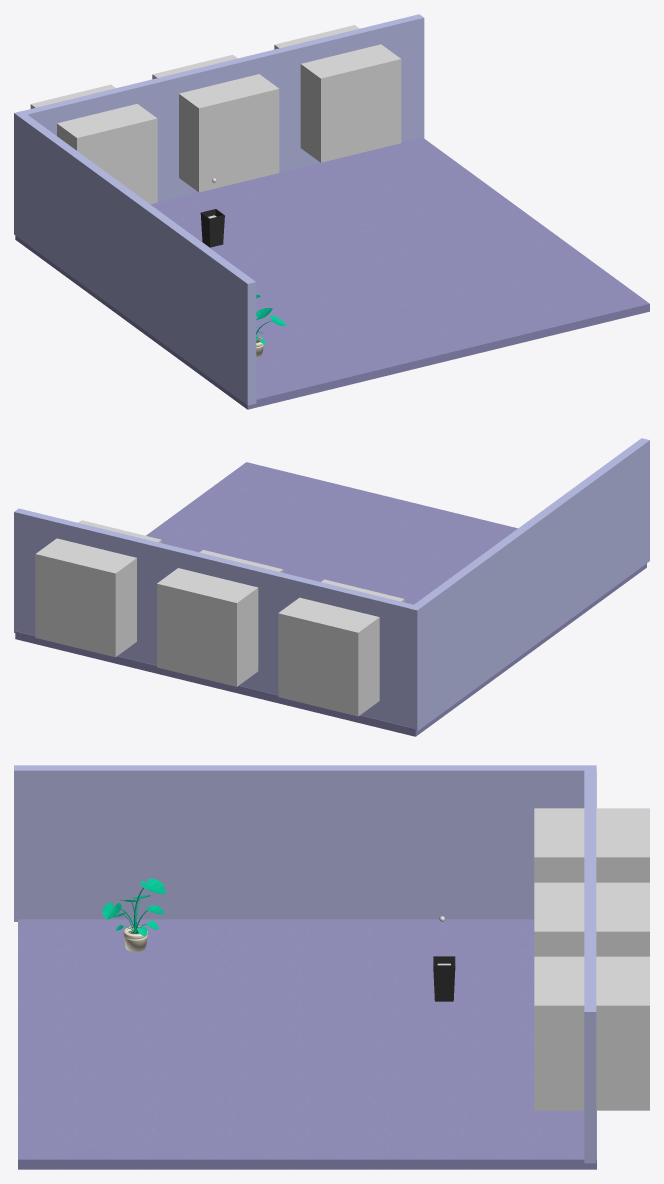
The model's file is office.glb.
3 views of the same model, one above another, from view 1: azimuth 30°, elevation 25°; view 2: azimuth 150°, elevation 25°; view 3: azimuth 270°, elevation 25° (orthographic). The views are drawn at different scales.
Visible parts, largest first — view 1: Ground, Wall.001, Wall, Window.002, Window.001, Window, Bucket; view 2: Ground, Wall.001, Wall, Window, Window.001, Window.002; view 3: Ground, Wall.001, Window.002, Window, Window.001, Wall, plant, Bucket.
Boxes of the visible parts, x1,y1,x2,y2 form: Ground: (15, 137, 649, 409); Wall.001: (14, 111, 256, 405); Wall: (15, 14, 424, 201); Window.002: (274, 25, 401, 162); Window.001: (152, 55, 279, 192); Window: (30, 84, 157, 204); Bucket: (200, 209, 224, 247); Ground: (15, 462, 646, 736); Wall.001: (409, 438, 649, 731); Wall: (14, 508, 421, 726); Window: (278, 579, 404, 716); Window.001: (157, 550, 283, 686); Window.002: (35, 520, 161, 657); Ground: (18, 919, 596, 1169); Wall.001: (14, 765, 596, 921); Window.002: (534, 956, 649, 1110); Window: (534, 808, 649, 882); Window.001: (534, 882, 649, 956); Wall: (584, 765, 596, 1163); plant: (102, 878, 165, 936); Bucket: (433, 956, 455, 1001).
Size of what is drawn, in the model's own units: 10.07 by 3.02 by 10.98.
6 materials, 1 textured.
